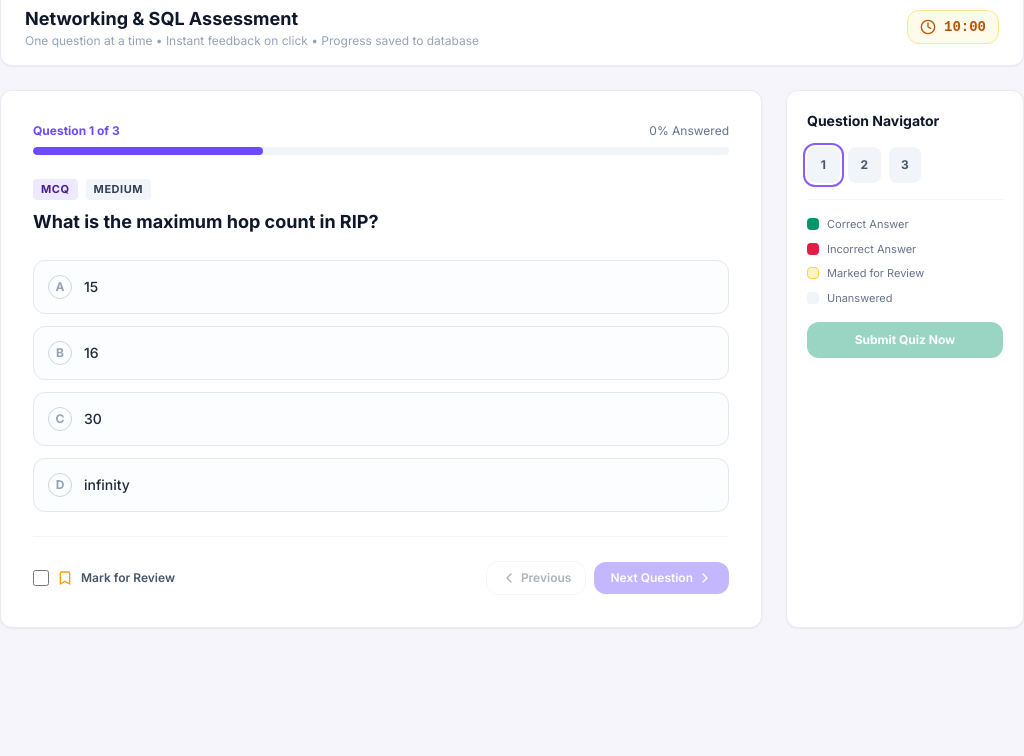
Quiz Component - Interactive One-by-One Flow › evaluates MCQ instantly, shows explanation, locks options, and enables Next
Expected: the heading "What is the maximum hop count in RIP?" is shown, [33,210,378,232]
# Click option "15"
Click the text "15": (91, 286) [84,276,98,296]
(page scrolled)
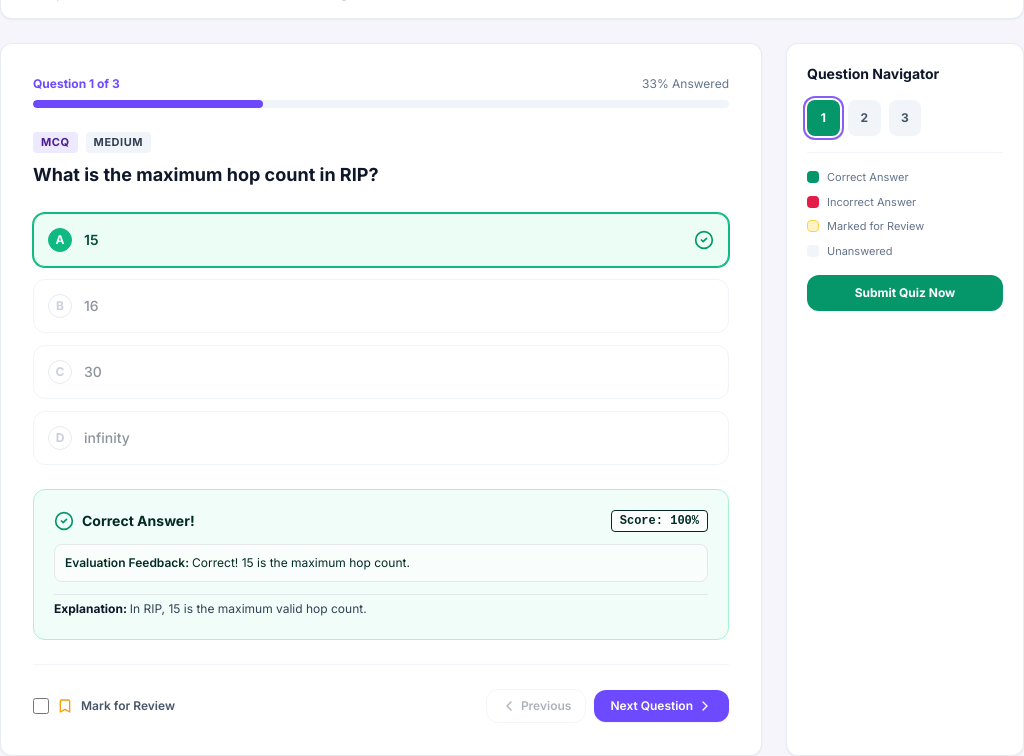
Now the text "Correct! 15 is the maximum hop count." is shown, box [192,555,410,570]
Now the text "Explanation: In RIP, 15 is the maximum valid hop count." is shown, box [54,594,708,619]
# Next button advances to Question 2
Click the button "Next Question": (662, 706) [594,690,729,722]
(page scrolled)
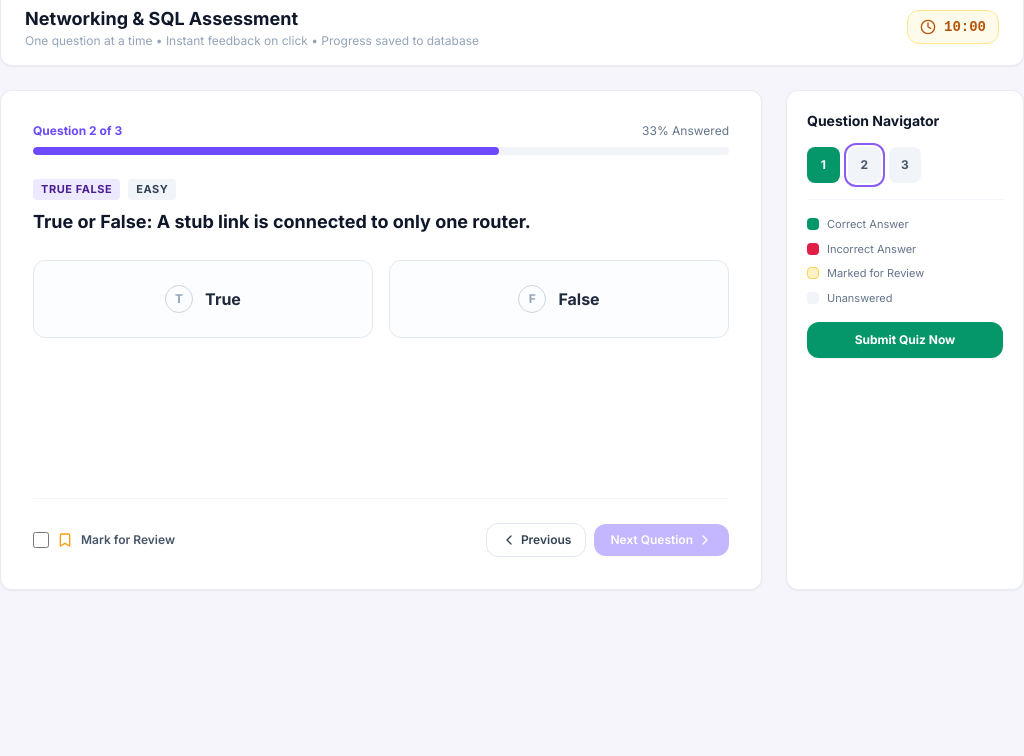
Now the text "Question 2 of 3" is shown, box [33,123,122,139]
Now the heading "True or False: A stub link is connected to only one router." is shown, box [33,210,531,232]
